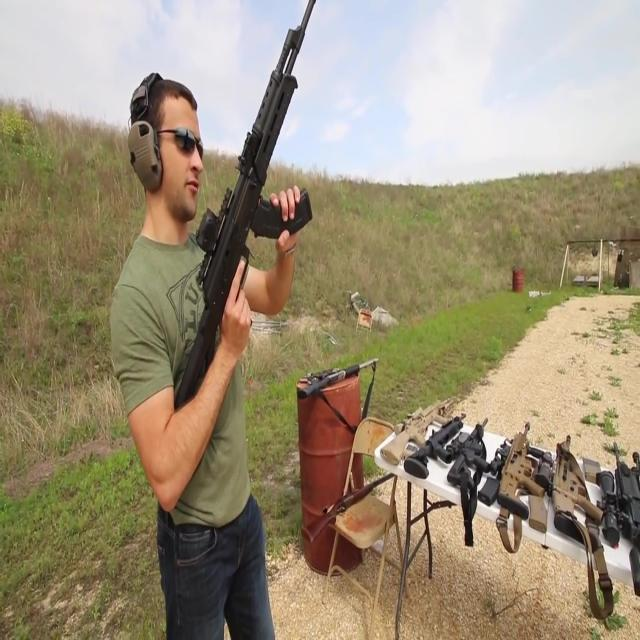Weapon: (157, 2, 315, 437), (390, 377, 640, 564), (281, 329, 381, 412), (291, 468, 399, 544)
